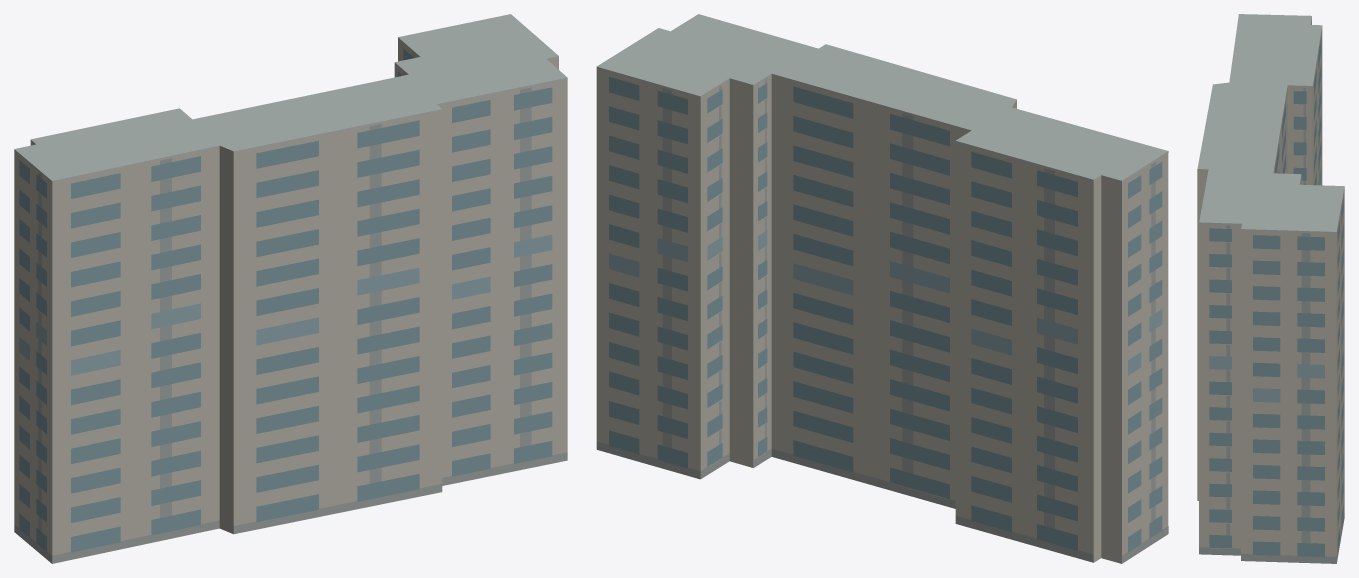
The model's file is residential-e0712ad8-82e9-4c02-97d1-b87c4124f9c6.glb.
The picture shows the model from 3 angles, left to right: view 1: azimuth 30°, elevation 25°; view 2: azimuth 150°, elevation 25°; view 3: azimuth 270°, elevation 25°; orthographic projection. The views are drawn at different scales.
Visible parts, largest first — view 1: residential-e0712ad8-82e9-4c02-97d1-b87c4124f9c6.tmp; view 2: residential-e0712ad8-82e9-4c02-97d1-b87c4124f9c6.tmp; view 3: residential-e0712ad8-82e9-4c02-97d1-b87c4124f9c6.tmp.
Part boxes in pixels (left/top/right/bottom): residential-e0712ad8-82e9-4c02-97d1-b87c4124f9c6.tmp: left=14, top=14, right=567, bottom=563; residential-e0712ad8-82e9-4c02-97d1-b87c4124f9c6.tmp: left=596, top=14, right=1168, bottom=563; residential-e0712ad8-82e9-4c02-97d1-b87c4124f9c6.tmp: left=1197, top=14, right=1344, bottom=563.
Bounding box in the file's own units: 53.52 × 38 × 15.27.
